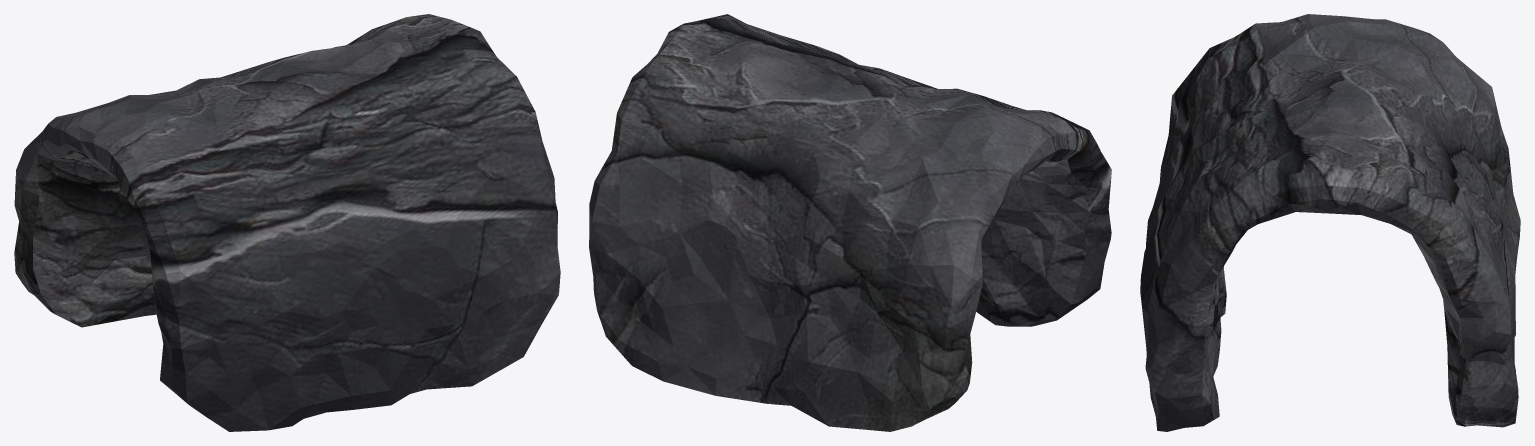
File: Toonel1.fbx
3 views of the same model, side by side, from view 1: azimuth 30°, elevation 25°; view 2: azimuth 150°, elevation 25°; view 3: azimuth 270°, elevation 25° (orthographic). The views are drawn at different scales.
Parts seen in each view (by area): view 1: rock; view 2: rock; view 3: rock.
Part boxes in pixels (x1,y1,x2,y2): rock: (14,14,560,431); rock: (589,14,1111,431); rock: (1140,14,1520,431).
Bounding box in the file's own units: 488 × 338 × 395.
